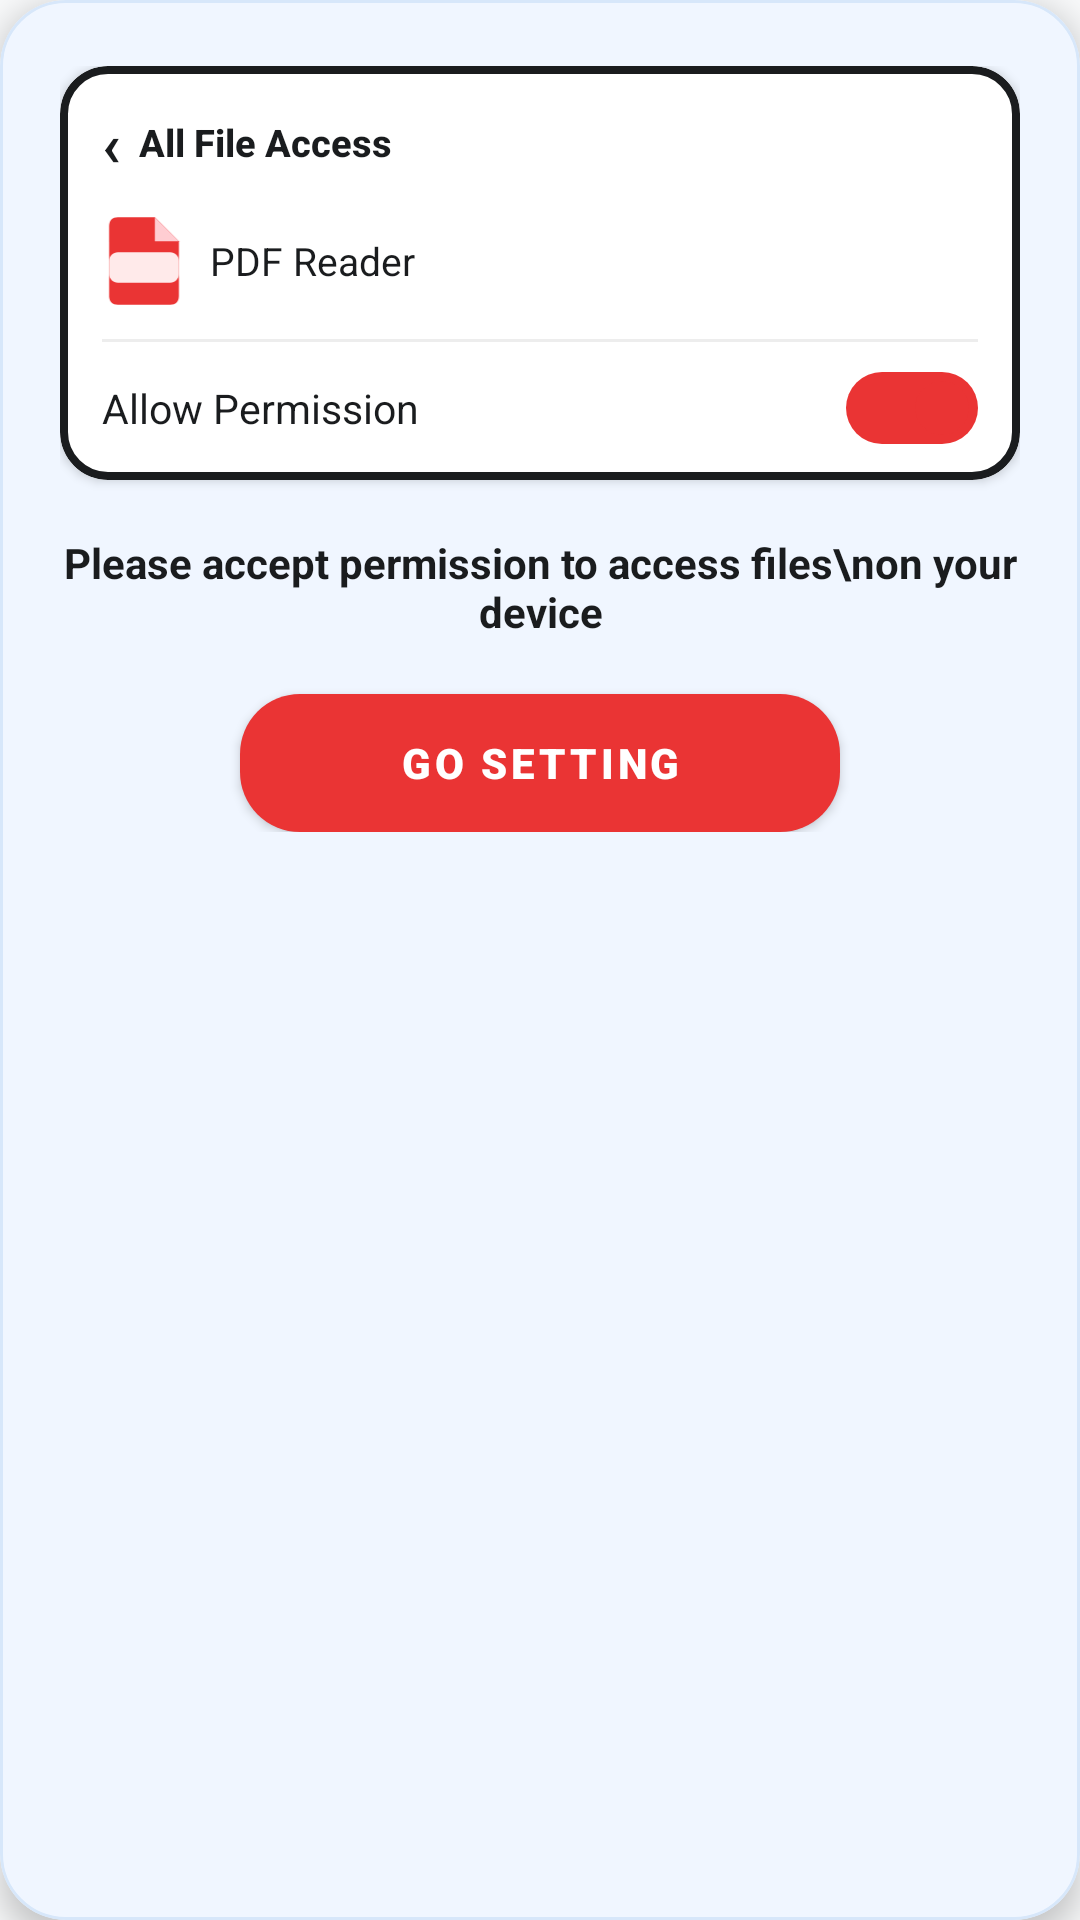

Screen size 1080x1920. Icon name, then its box in pixels as {"x1": x1, "y1": y1, "x2": x2, "y2": y2}:
doc page pdf: {"x1": 108, "y1": 217, "x2": 180, "y2": 305}
